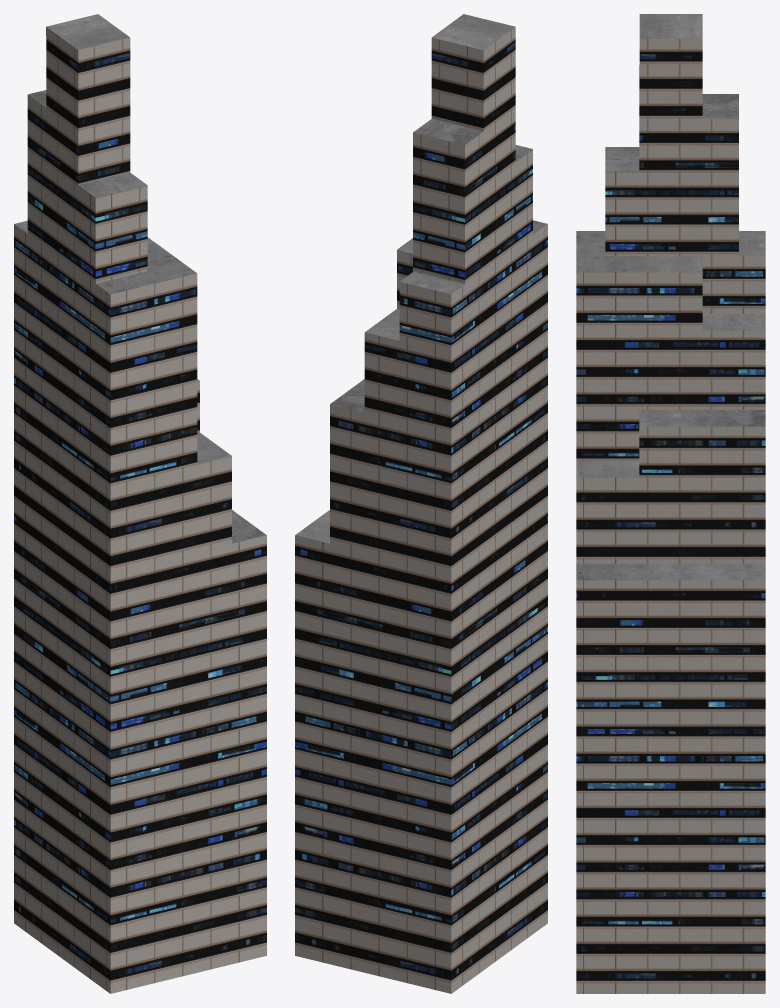
Rendered from TOWER_04.fbx.
3 renders of one model, left to right at view 1: azimuth 30°, elevation 25°; view 2: azimuth 150°, elevation 25°; view 3: azimuth 270°, elevation 25°, orthographic.
Visible parts, largest first — view 1: TOWER_04; view 2: TOWER_04; view 3: TOWER_04.
Part boxes in pixels (x1=…): TOWER_04: x1=14, y1=14, x2=266, y2=993; TOWER_04: x1=295, y1=14, x2=547, y2=993; TOWER_04: x1=576, y1=14, x2=765, y2=993.
Bounding box in the file's own units: 2746 × 15446 × 2931.
